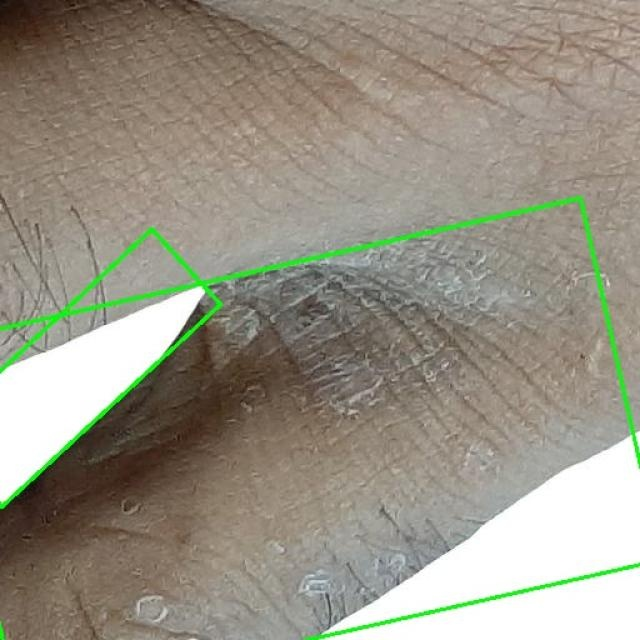Scabies: (0, 199, 640, 640), (0, 230, 226, 522)
